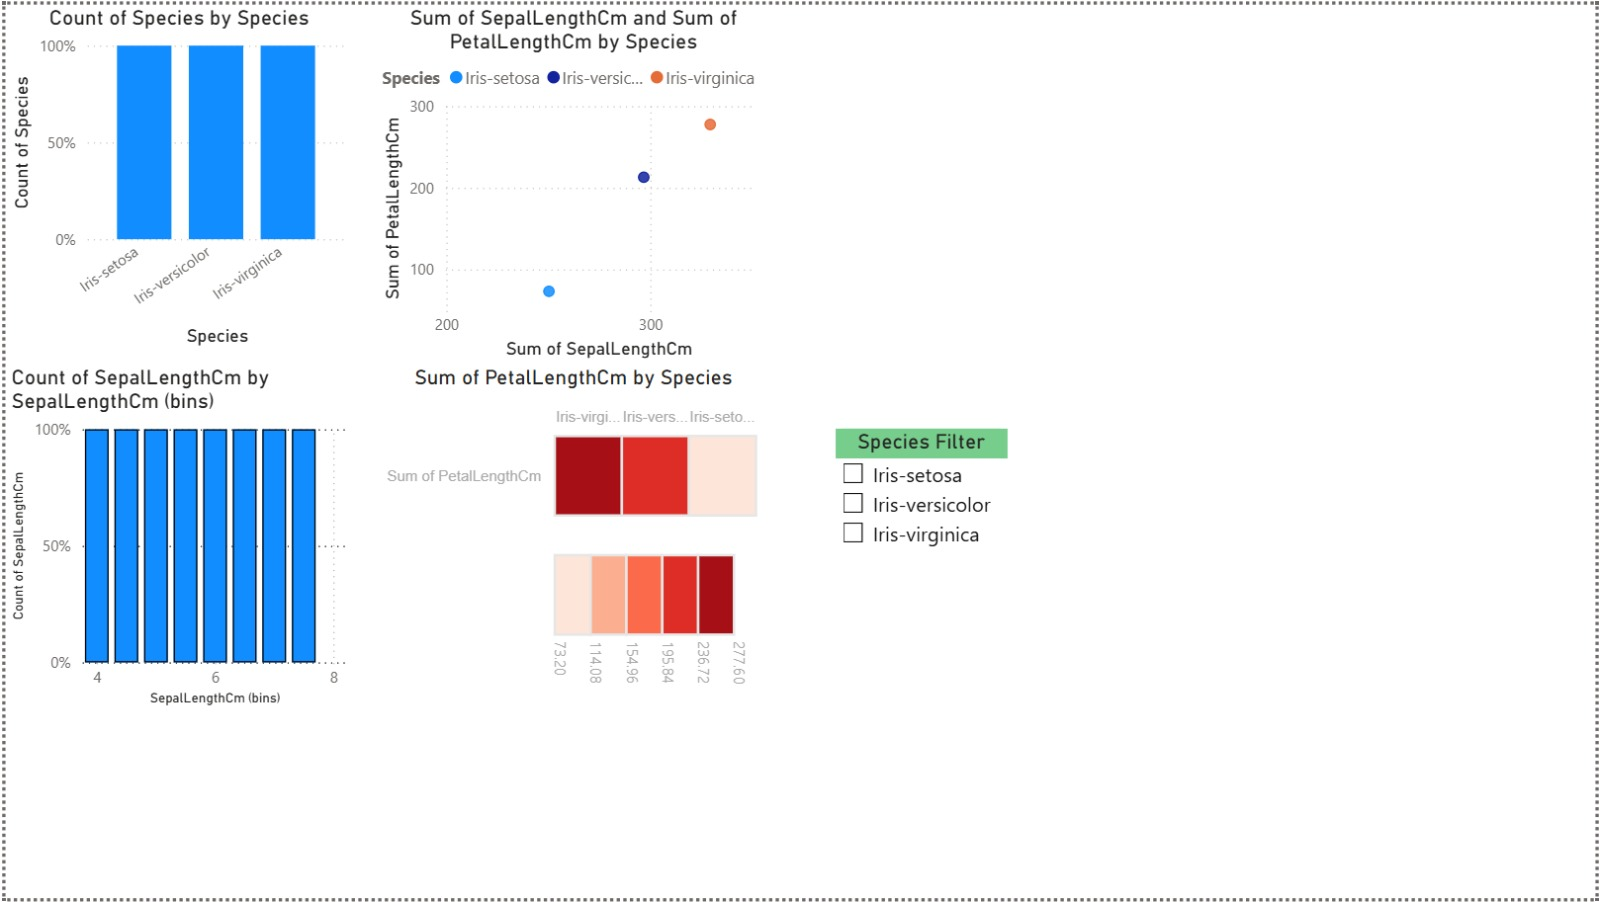

The dashboard page shown, as its layout file describes it:
{"tool":"powerbi","page":{"name":"Page 1","canvas":[1280,720],"ordinal":0},"visuals":[{"type":"hundredPercentStackedColumnChart","fields":{"Category":["Iris.Species"],"Y":["CountNonNull(Iris.Species)"]},"box":[0,0,280,280],"z":0},{"type":"hundredPercentStackedColumnChart","fields":{"Category":["Iris.SepalLengthCm (bins)"],"Y":["CountNonNull(Iris.SepalLengthCm)"]},"box":[0,290,280,280],"z":1000},{"type":"scatterChart","fields":{"X":["Sum(Iris.SepalLengthCm)"],"Y":["Sum(Iris.PetalLengthCm)"],"Series":["Iris.Species"]},"box":[299,0,318,290],"z":2000},{"type":"TableHeatMap1443716069308","fields":{"Category":["Iris.Species"],"Y":["Sum(Iris.PetalLengthCm)"]},"box":[299,290,318,290],"z":3000},{"type":"listSlicer","title":"Species Filter","fields":{"Values":["Iris.Species"]},"box":[668,341,138,229],"z":4000}]}

Visuals, with their boxes in screenshot pixels (x1, y1, x2, y2), scaled from the page's 1280x720 canvas onto the 1600x902 screenshot:
hundredPercentStackedColumnChart - Iris.Species x CountNonNull(Iris.Species): rect(0, 0, 350, 351)
hundredPercentStackedColumnChart - Iris.SepalLengthCm (bins) x CountNonNull(Iris.SepalLengthCm): rect(0, 363, 350, 714)
scatterChart - Sum(Iris.SepalLengthCm) x Sum(Iris.PetalLengthCm): rect(374, 0, 771, 363)
TableHeatMap1443716069308 - Iris.Species x Sum(Iris.PetalLengthCm): rect(374, 363, 771, 727)
"Species Filter" listSlicer: rect(835, 427, 1008, 714)
